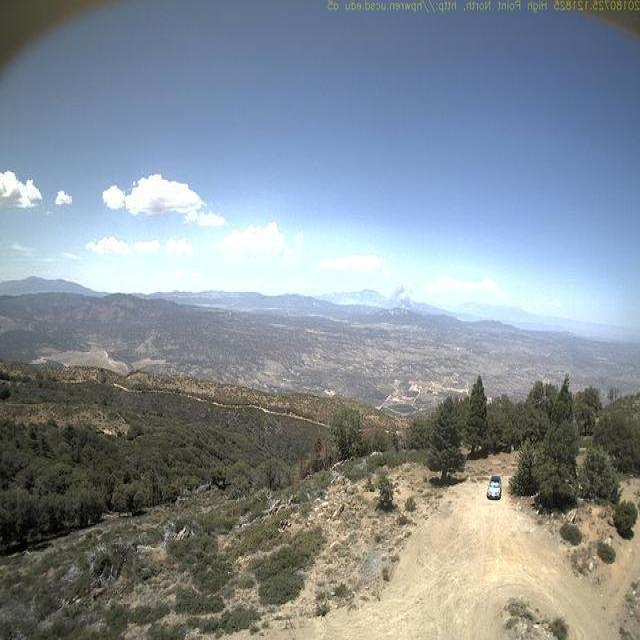Smoke: (384, 282, 419, 310)
